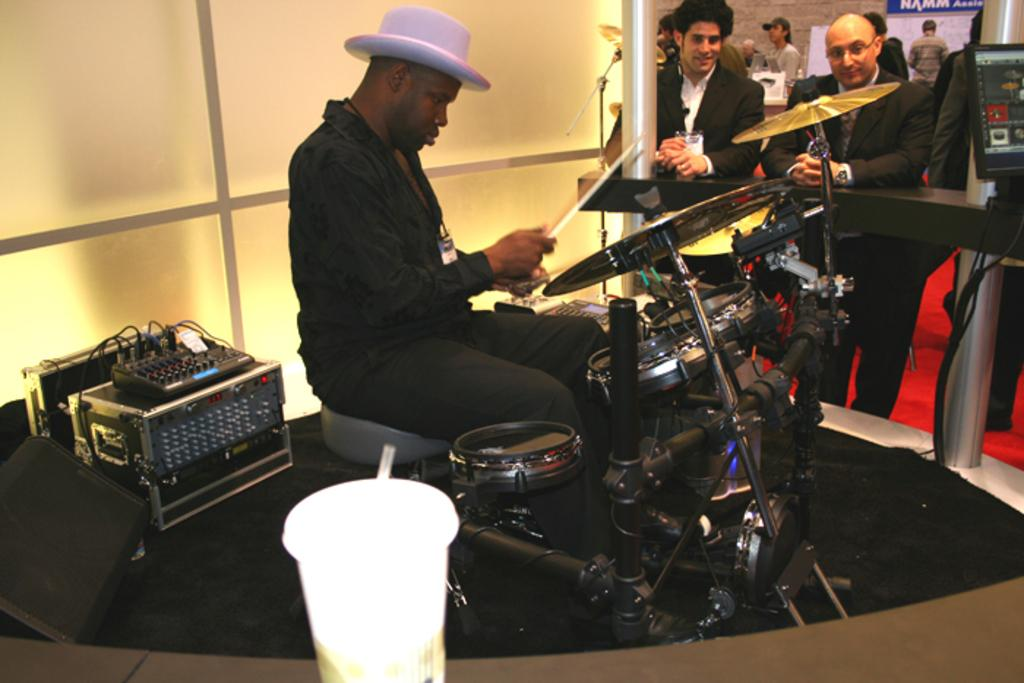Hat: (346, 8, 494, 106)
